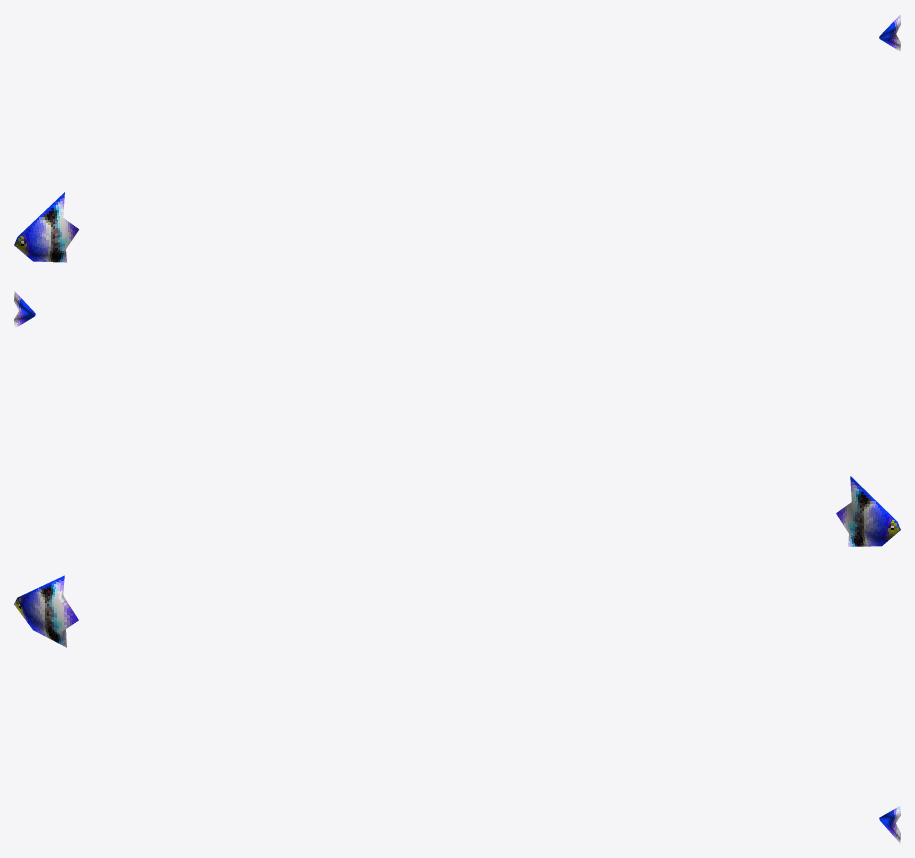
The model's file is fish_sm64.glb.
3 views of the same model, one above another, from view 1: azimuth 30°, elevation 25°; view 2: azimuth 150°, elevation 25°; view 3: azimuth 330°, elevation 25° (orthographic).
Visible parts, largest first — view 1: Node2_part; view 2: Node2_part; view 3: Node2_part.
Boxes of the visible parts, left/top/right/bottom form: Node2_part: left=14, top=192, right=78, bottom=262; Node2_part: left=836, top=476, right=900, bottom=546; Node2_part: left=14, top=575, right=78, bottom=647.
Bounding box in the file's own units: 4.06 × 0.3129 × 0.0645.
Materials: 1 (1 with a texture image).
